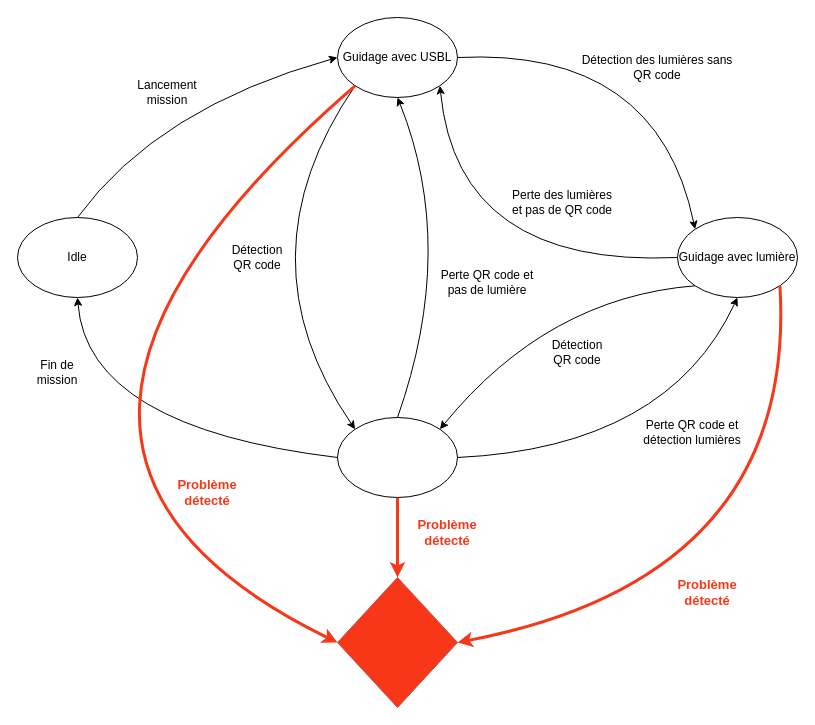
The diagram is 815 pixels wide and 725 high, and some of its shapes have lost their labels. The centre of each missing label's shape, as x and y in pixels:
"Guidage avec QR codes" goes at point 397,457.
"SAFE MODE" goes at point 397,642.
